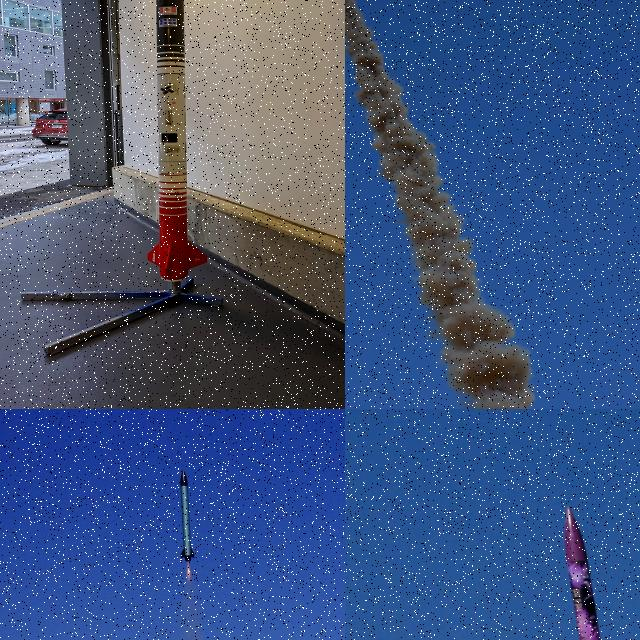Rocket: (147, 0, 207, 282), (557, 505, 623, 640), (178, 470, 197, 562)
